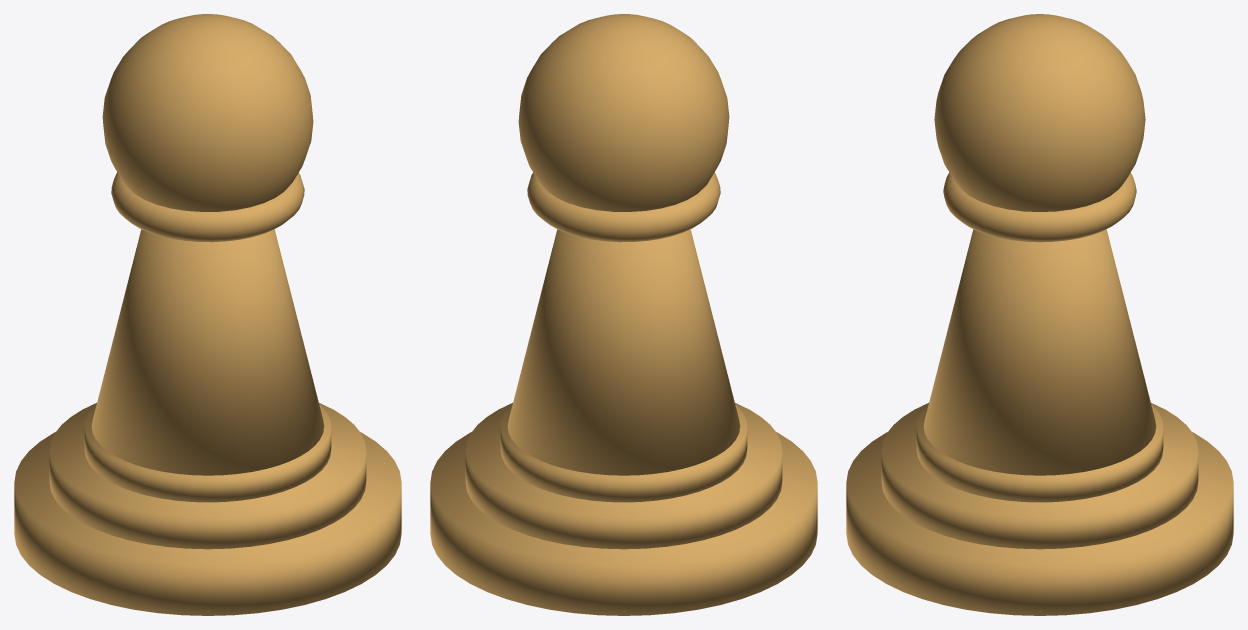
The model's file is kalin-pawn.glb.
3 views of the same model, side by side, from view 1: azimuth 30°, elevation 25°; view 2: azimuth 150°, elevation 25°; view 3: azimuth 270°, elevation 25° (orthographic).
Visible parts, largest first — view 1: Pawn | taper, Pawn | crown, Pawn | turned base, Pawn | turned base.001, Pawn | turned base.002, Pawn | collar; view 2: Pawn | taper, Pawn | crown, Pawn | turned base, Pawn | turned base.001, Pawn | turned base.002, Pawn | collar; view 3: Pawn | taper, Pawn | crown, Pawn | turned base, Pawn | turned base.001, Pawn | turned base.002, Pawn | collar.
Boxes of the visible parts, left/top/right/bottom form: Pawn | taper: left=91, top=229, right=324, bottom=475; Pawn | crown: left=102, top=14, right=313, bottom=211; Pawn | turned base: left=14, top=432, right=401, bottom=615; Pawn | turned base.001: left=49, top=403, right=366, bottom=549; Pawn | turned base.002: left=84, top=405, right=331, bottom=502; Pawn | collar: left=111, top=172, right=304, bottom=242; Pawn | taper: left=507, top=229, right=740, bottom=475; Pawn | crown: left=518, top=14, right=729, bottom=211; Pawn | turned base: left=430, top=432, right=817, bottom=615; Pawn | turned base.001: left=465, top=403, right=782, bottom=549; Pawn | turned base.002: left=500, top=405, right=747, bottom=502; Pawn | collar: left=527, top=172, right=720, bottom=242; Pawn | taper: left=923, top=229, right=1156, bottom=475; Pawn | crown: left=934, top=14, right=1145, bottom=211; Pawn | turned base: left=846, top=432, right=1233, bottom=615; Pawn | turned base.001: left=881, top=403, right=1198, bottom=549; Pawn | turned base.002: left=916, top=405, right=1163, bottom=502; Pawn | collar: left=943, top=172, right=1136, bottom=242.
Size of the model in its own units: 0.88 by 1.28 by 0.88.
